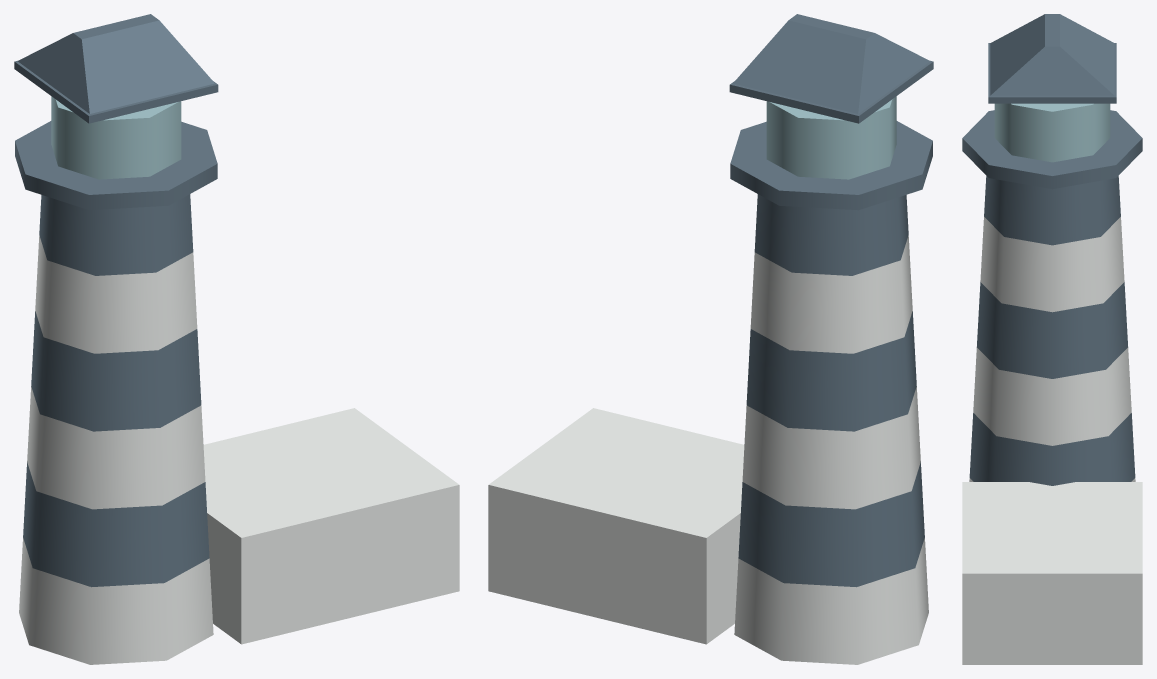
The model's file is lighthouse.glb.
The picture shows the model from 3 angles, left to right: view 1: azimuth 30°, elevation 25°; view 2: azimuth 150°, elevation 25°; view 3: azimuth 270°, elevation 25°; orthographic projection. The views are drawn at different scales.
Visible parts, largest first — view 1: lighthouse; view 2: lighthouse; view 3: lighthouse.
Part boxes in pixels (<box>): lighthouse: <box>14,14,459,664</box>; lighthouse: <box>488,14,933,664</box>; lighthouse: <box>962,14,1142,664</box>.
Size of the model in its own units: 10.5 by 15.7 by 5.
